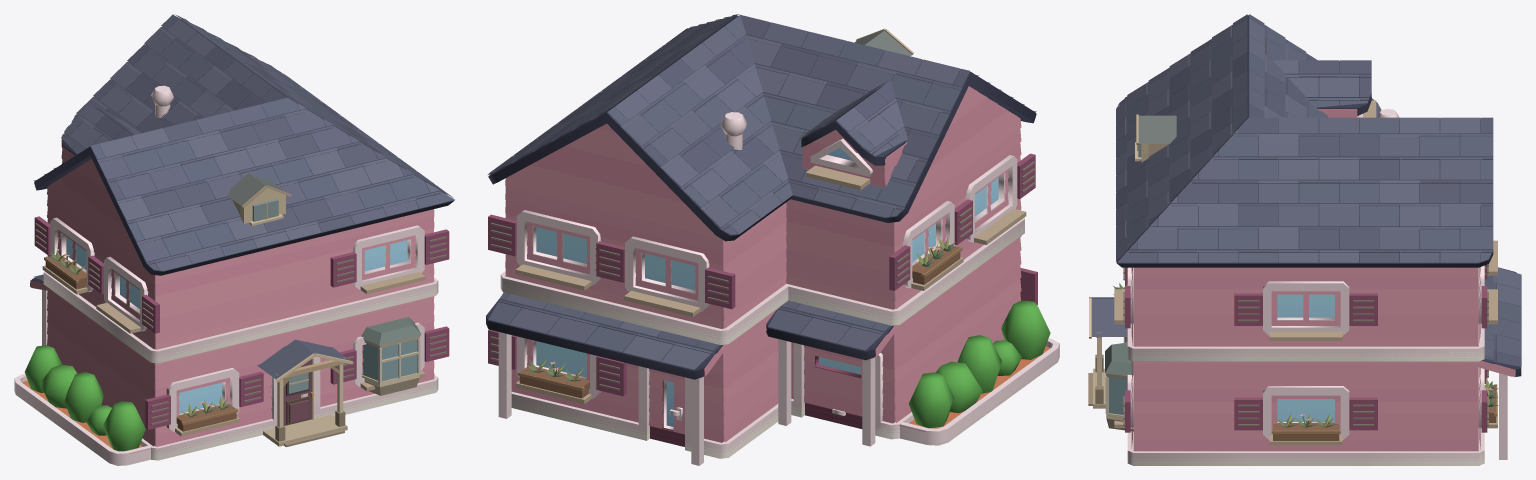
Rendered from house-f-pink.glb.
3 views of the same model, side by side, from view 1: azimuth 30°, elevation 25°; view 2: azimuth 150°, elevation 25°; view 3: azimuth 270°, elevation 25° (orthographic). The views are drawn at different scales.
Visible parts, largest first — view 1: Handlaid_roof_entry_porch_and_joinery, building-type-f, Details; view 2: Handlaid_roof_entry_porch_and_joinery, building-type-f, Details; view 3: Handlaid_roof_entry_porch_and_joinery, building-type-f, Details.
Boxes of the visible parts, box(x1,y1,x2,y2) form: Handlaid_roof_entry_porch_and_joinery: box(30, 14, 454, 454); building-type-f: box(14, 16, 454, 465); Details: box(34, 216, 449, 429); Handlaid_roof_entry_porch_and_joinery: box(488, 14, 1036, 442); building-type-f: box(486, 15, 1059, 465); Details: box(488, 153, 1037, 396); Handlaid_roof_entry_porch_and_joinery: box(1088, 14, 1521, 451); building-type-f: box(1116, 15, 1521, 465); Details: box(1125, 264, 1487, 432).
Bounding box in the file's own units: 1.44 × 1.14 × 1.51.
49 materials, 1 textured.
